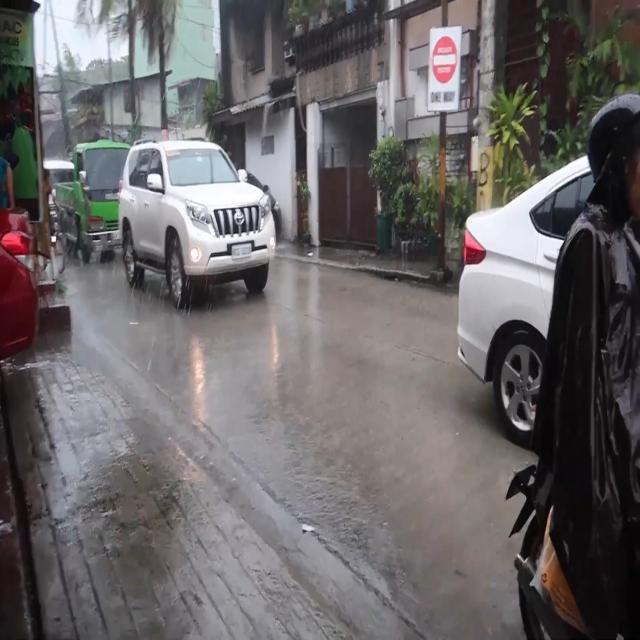invalid: (589, 95, 640, 187)
